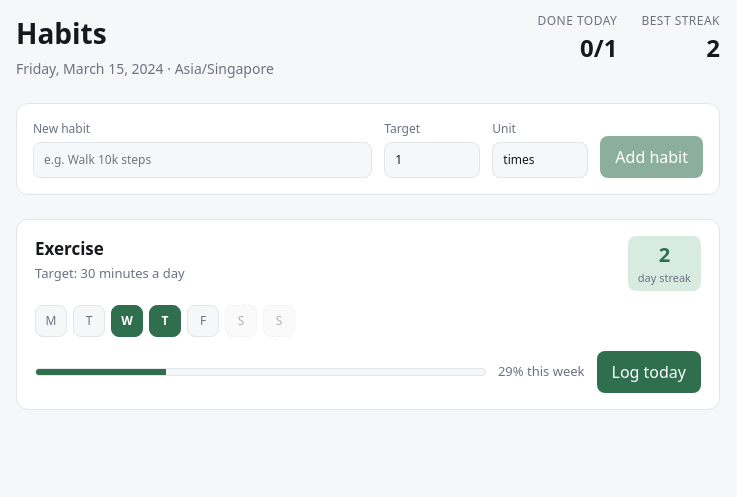
Test case: HabitDashboard › surfaces a failed log instead of pretending it worked
The width and height of the screenshot is (737, 497).
Click the button "Log today" at (649, 372), box [596,350,701,392]
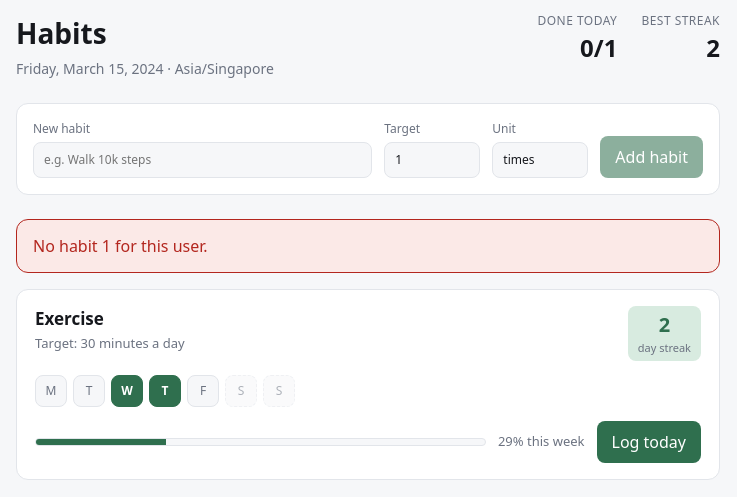
Check: the button "Log today" is enabled, box [596,420,701,462]
Check: the message reads "No habit 1 for this user.", box [33,235,208,257]
